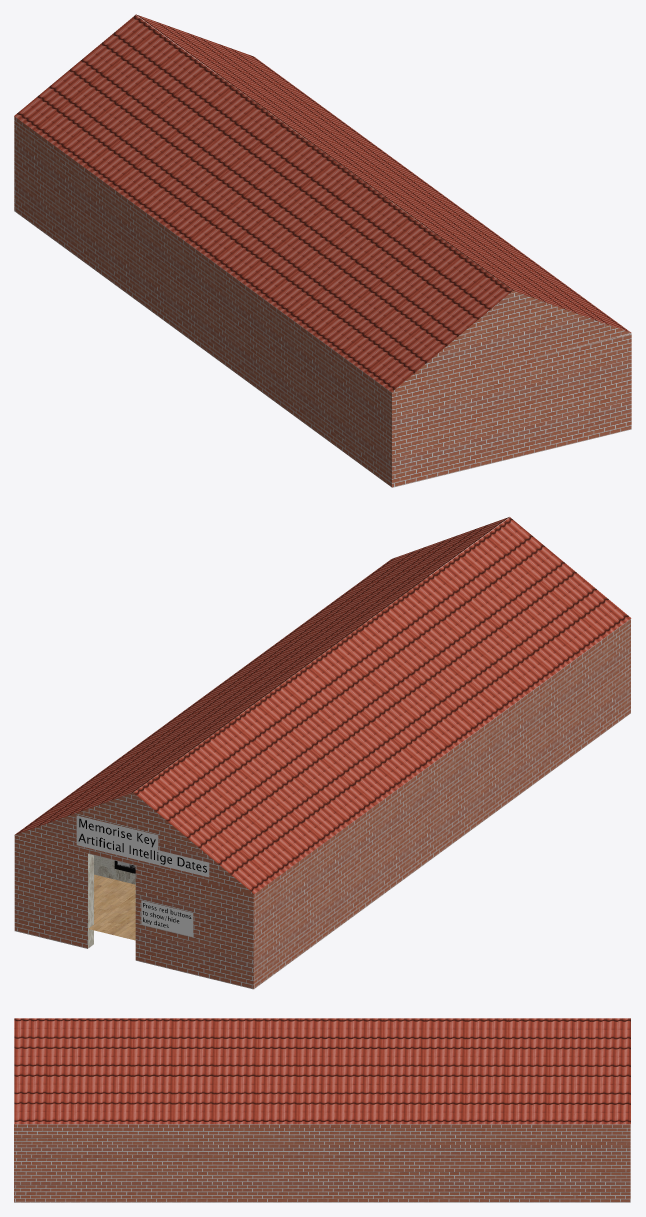
Rendered from walls_109.gltf.
The picture shows the model from 3 angles, top to bottom: view 1: azimuth 30°, elevation 25°; view 2: azimuth 150°, elevation 25°; view 3: azimuth 270°, elevation 25°; orthographic projection. The views are drawn at different scales.
Parts seen in each view (by area): view 1: polySurface5506; view 2: polySurface5506; view 3: polySurface5506.
Part boxes in pixels (x1,y1,x2,y2): polySurface5506: [14, 14, 631, 487]; polySurface5506: [14, 517, 631, 989]; polySurface5506: [14, 1018, 630, 1202].
Bounding box in the file's own units: 15.98 × 10.82 × 43.48.
Materials: 16 (12 with a texture image).
